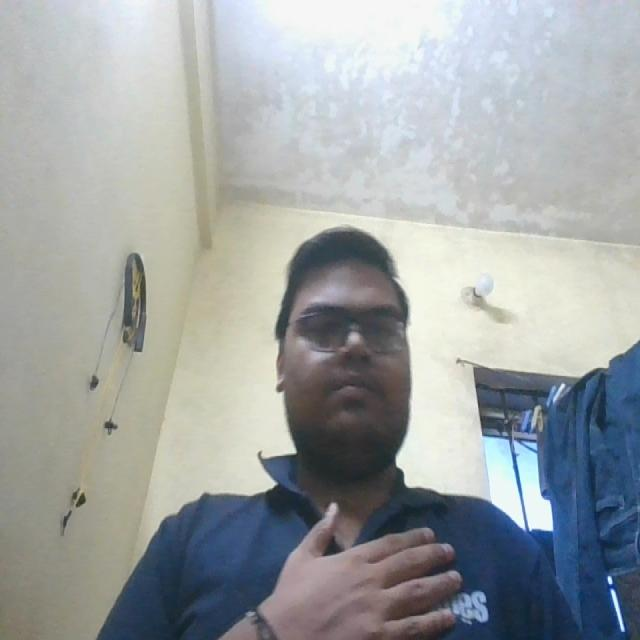Please: (252, 481, 465, 640)
